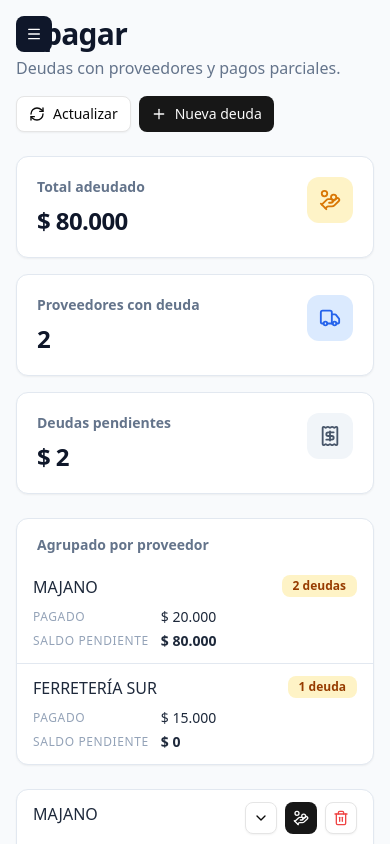
SupplierDebtsPage — cards de mobile › el botón de expandir de la card usa la misma lógica y lista los pagos
This screenshot has width=390, height=844.
Click the button named "Ver detalle" at x=261, y=818, box [245,802,277,834]
(page scrolled)
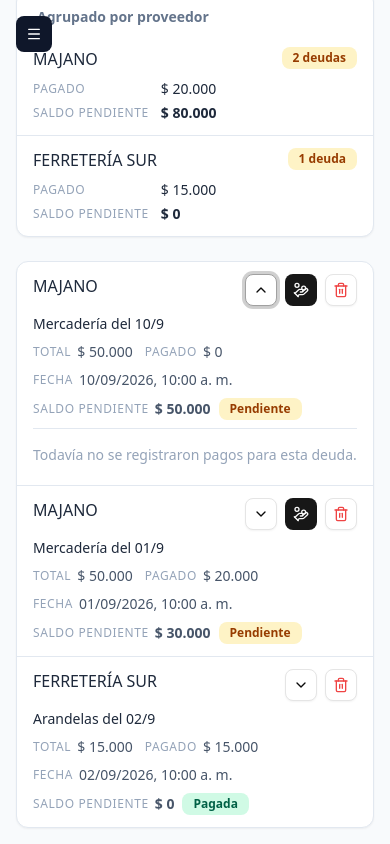
Expected: the button named "Ocultar detalle" is shown, [245,274,277,306]
# Con pagos cargados: lista en la card, no tabla anidada.
Click the 1st button named "Ver detalle" at x=261, y=514, box [245,498,277,530]
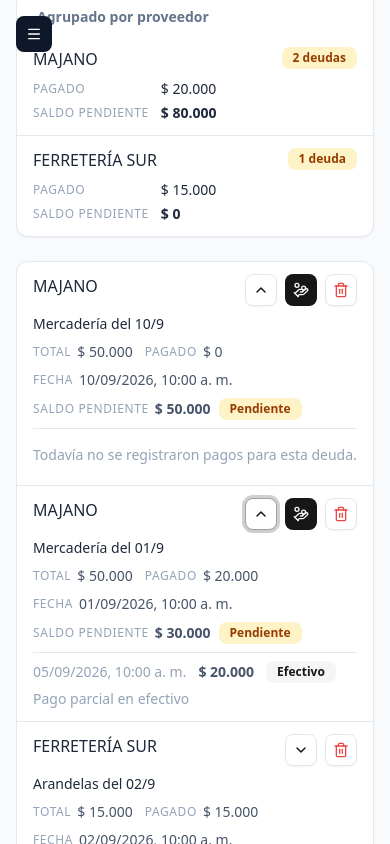
Expected: the text "Efectivo" is shown, [266,661,336,683]
Expected: the text "Pago parcial en efectivo" is shown, [33,689,189,708]
